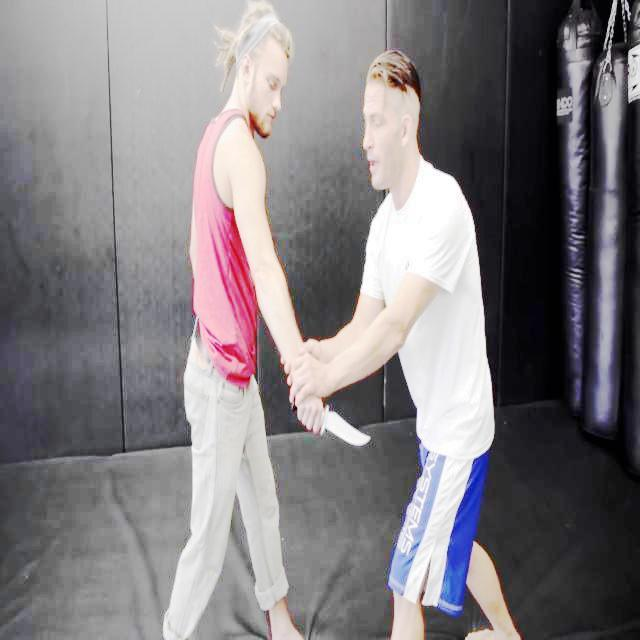Knife: (272, 377, 371, 455)
